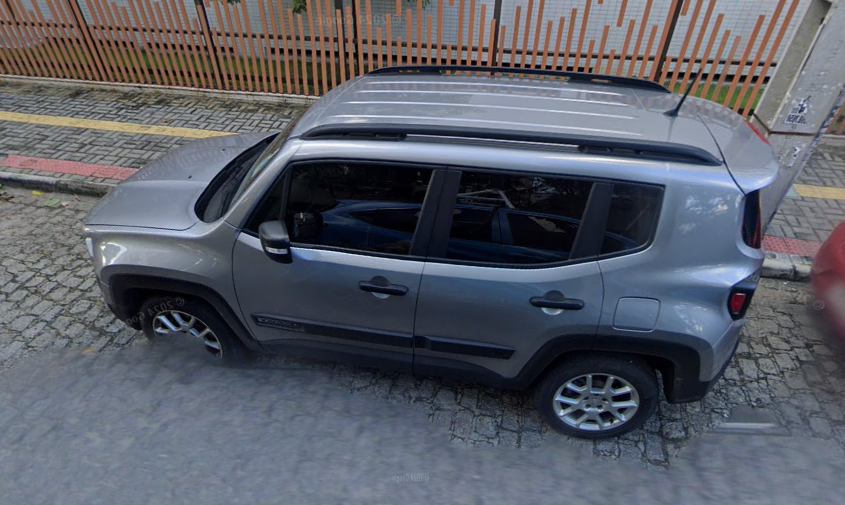car: (74, 56, 779, 445)
